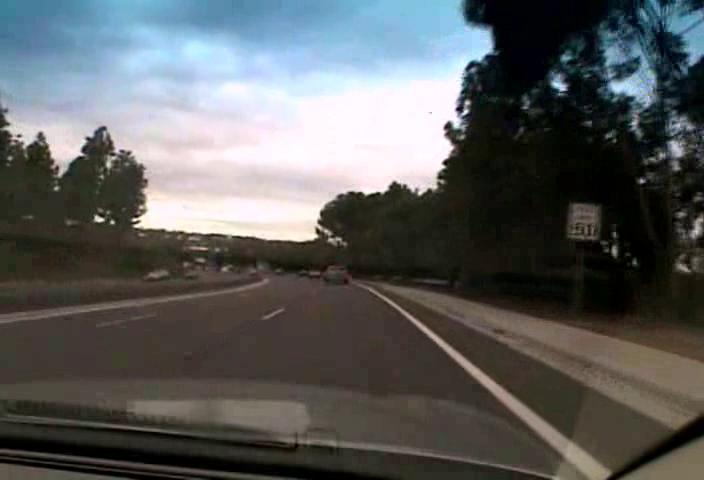speedLimit50: (566, 201, 601, 241)
